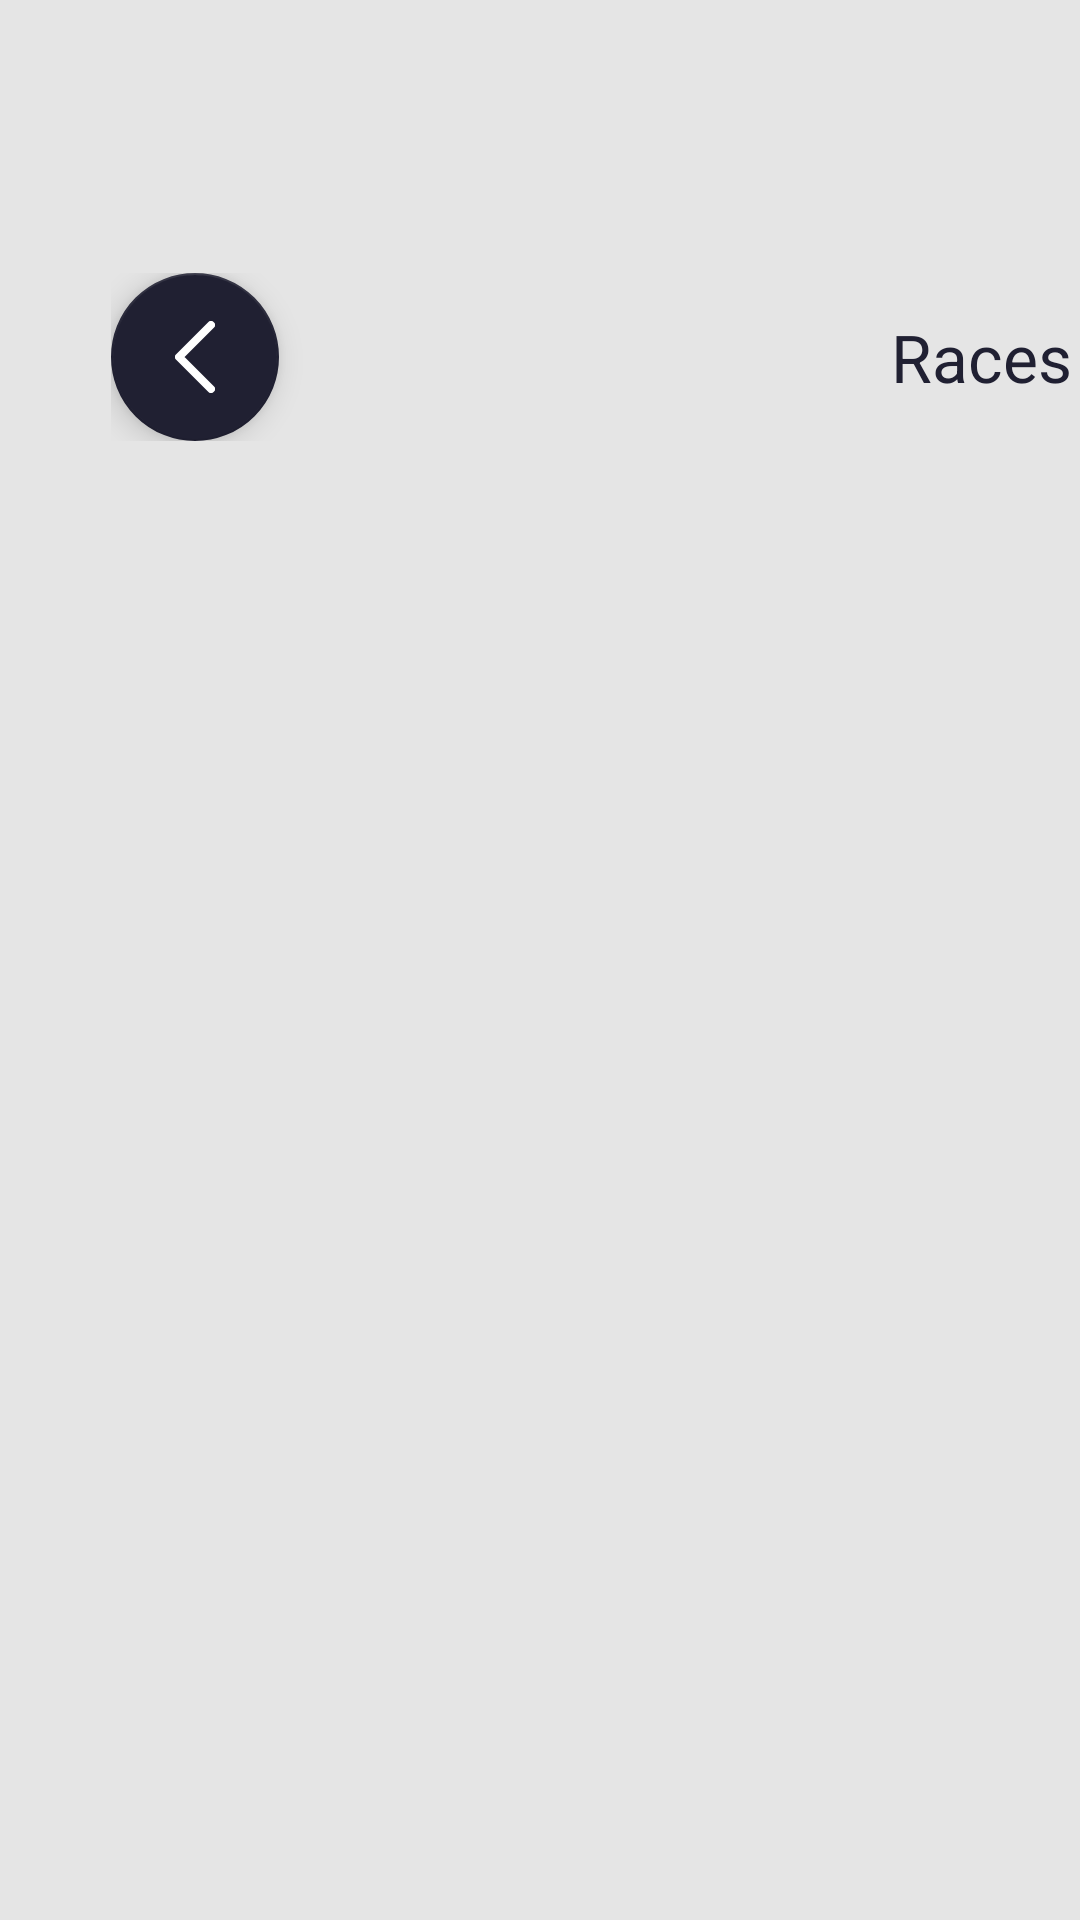

Locate icon controls on the screen. Image size 1080px x 1920px, boxes as (x1, y1, x2, y2).
back: (111, 273, 279, 441)
